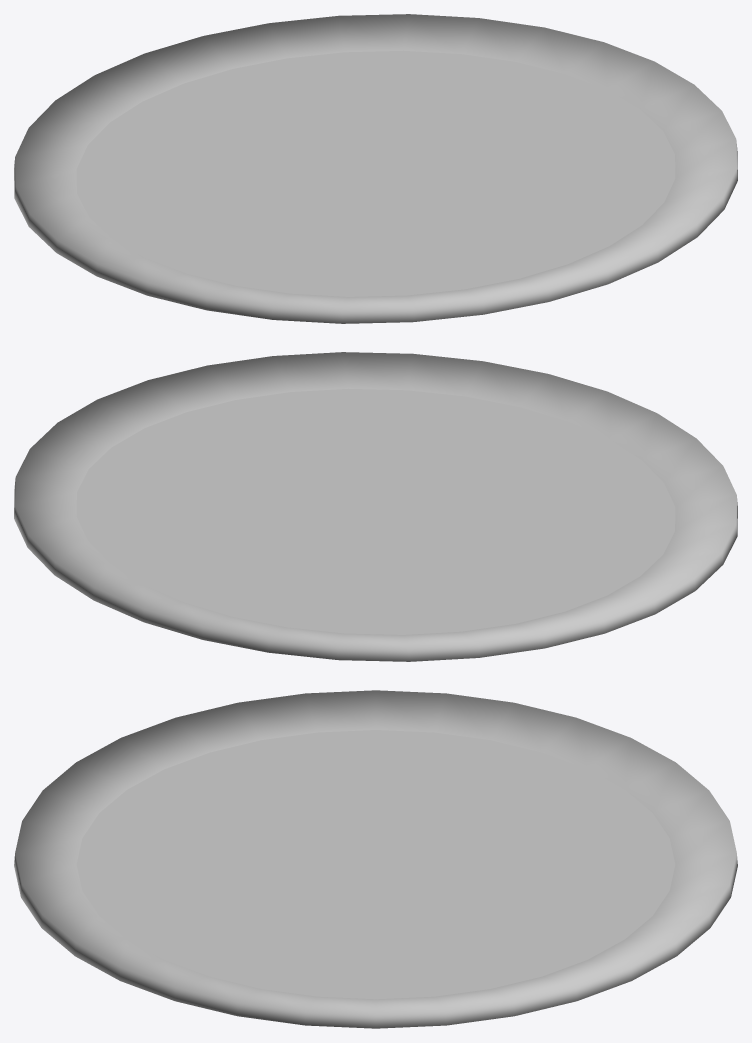
File: smallplate.glb
3 views of the same model, one above another, from view 1: azimuth 30°, elevation 25°; view 2: azimuth 150°, elevation 25°; view 3: azimuth 270°, elevation 25° (orthographic). The views are drawn at different scales.
Parts seen in each view (by area): view 1: plate.002; view 2: plate.002; view 3: plate.002.
Boxes of the visible parts, x1,y1,x2,y2 form: plate.002: (14, 14, 737, 323); plate.002: (14, 352, 737, 661); plate.002: (14, 690, 737, 1028).
Size of the model in its own units: 8.06 by 1.28 by 7.57.
1 material, 1 textured.
